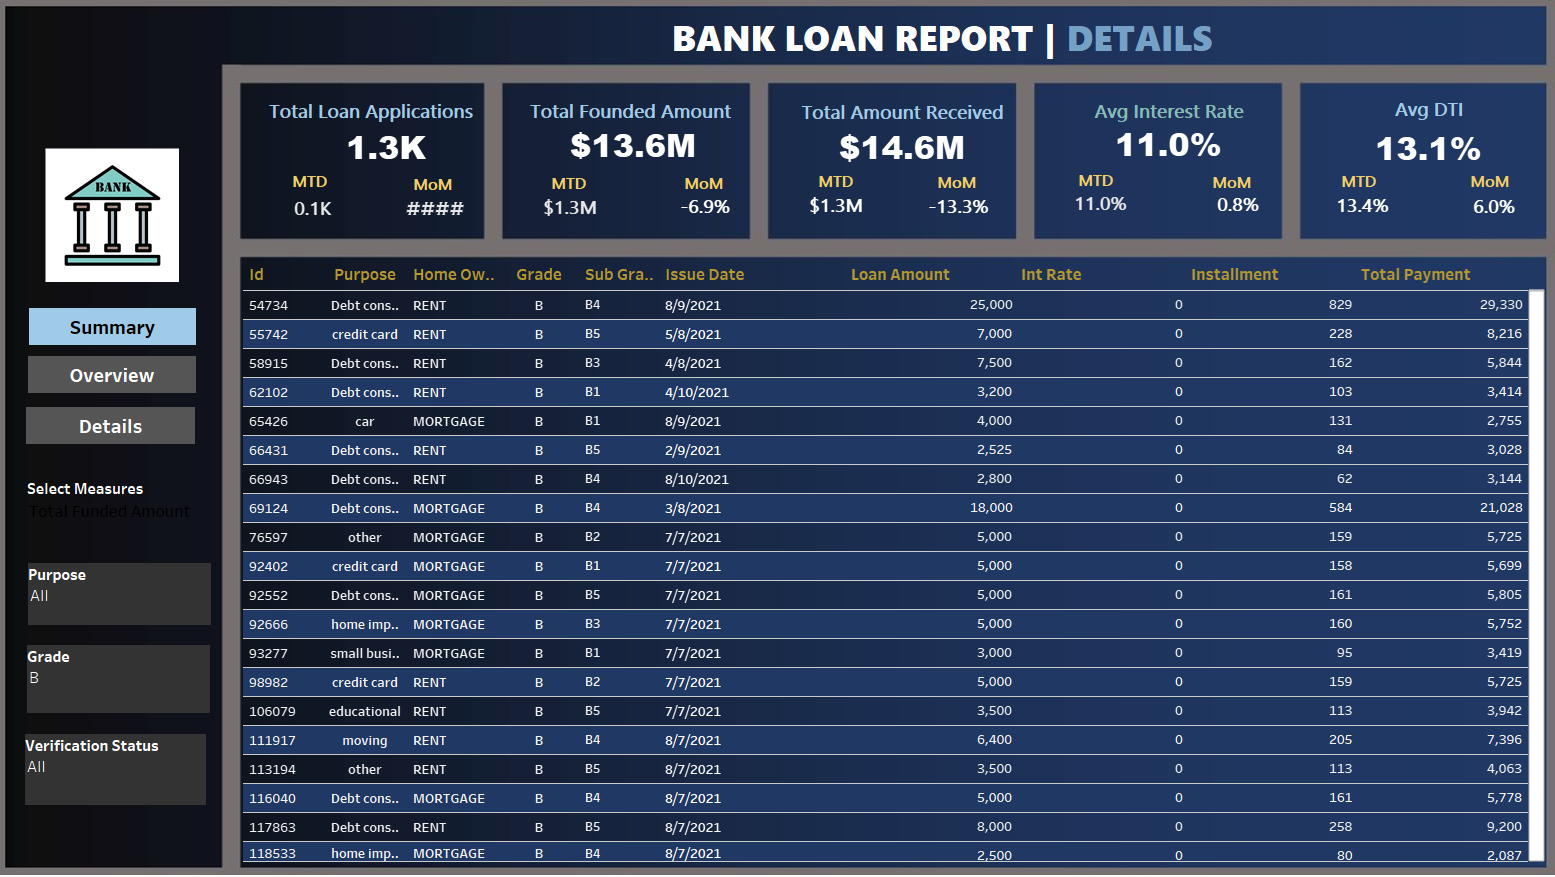

Layout of this report page (visuals, bound fields, positions):
{"tool":"tableau","page":{"name":"DETAILS","canvas":[1600,900],"ordinal":0},"visuals":[{"type":"image","param":"D:/SummerSlam/GitHub Projects/Bank-Loan/Images/Tableau Background 3.jpg","box":[8,8,1584,884]},{"type":"text","box":[683,21,715,57]},{"type":"worksheet","title":"Avg DTI","mark":"Automatic","box":[1372,102,142,77]},{"type":"worksheet","title":"Total Loan Applications","mark":"Automatic","box":[279,104,242,71]},{"type":"worksheet","title":"Total Founded Amount","mark":"Automatic","box":[540,104,216,68]},{"type":"worksheet","title":"Avg Interest Rate","mark":"Automatic","box":[1036,104,294,66]},{"type":"worksheet","title":"Total Amount Received","mark":"Automatic","box":[785,105,263,70]},{"type":"image","param":"C:/Users/Mohammed/Desktop/bank-vector-icon.jpg","box":[59,161,134,145]},{"type":"worksheet","title":"MoM Avg DTI","mark":"Automatic","box":[1453,176,111,85]},{"type":"text","box":[1079,180,61,25]},{"type":"text","box":[293,181,61,25]},{"type":"text","box":[819,181,61,25]},{"type":"worksheet","title":"MoM Avg INT Rate","mark":"Automatic","box":[1202,181,100,71]},{"type":"text","box":[1342,181,61,25]},{"type":"text","box":[1473,181,61,25]},{"type":"text","box":[940,182,61,25]},{"type":"text","box":[1215,182,61,25]},{"type":"text","box":[552,183,61,25]},{"type":"text","box":[687,183,61,25]},{"type":"text","box":[416,184,61,25]},{"type":"worksheet","title":"MoM Total Amount Received ","mark":"Automatic","box":[932,186,81,65]},{"type":"worksheet","title":"MTD Avg DTI","mark":"Automatic","box":[1315,186,123,63]},{"type":"worksheet","title":"MoM Total Loan Applications","mark":"Automatic","box":[413,187,73,72]},{"type":"worksheet","title":"MTD Total Loan Applications","mark":"Automatic","box":[273,189,108,64]},{"type":"worksheet","title":"MoM Total Funded Amount","mark":"Automatic","box":[666,189,107,60]},{"type":"worksheet","title":"MTD Total Amount Received","mark":"Automatic","box":[808,190,84,56]},{"type":"worksheet","title":"MTD Total Funded Amount","mark":"Automatic","box":[538,192,93,56]},{"type":"worksheet","title":"MTD Avg INT Rate","mark":"Automatic","box":[1069,198,92,35]},{"type":"worksheet","title":"Detail Tab","mark":"Automatic","rows":["id","purpose","home_ownership","grade","sub_grade","issue_date"],"box":[257,271,1302,604]},{"type":"dashboard-object","box":[43,321,167,37]},{"type":"dashboard-object","box":[42,369,168,37]},{"type":"dashboard-object","box":[40,420,169,37]},{"type":"parameter","param":"[Parameters].[Parameter 1]","box":[41,490,178,69]},{"type":"filter","title":"Avg DTI","param":"[federated.03rtkqy1etti0218mw5ic1l0aoeu].[none:purpose:nk]","box":[42,576,183,62]},{"type":"filter","title":"Avg DTI","param":"[federated.03rtkqy1etti0218mw5ic1l0aoeu].[none:grade:nk]","box":[41,658,183,68]},{"type":"filter","title":"Avg DTI","param":"[federated.03rtkqy1etti0218mw5ic1l0aoeu].[none:verification_status:nk]","box":[39,747,181,71]}]}

Visuals, with their boxes in screenshot pixels (x1, y1, x2, y2), scaled from the page's 1600x900 canvas onto the 1555x877 screenshot:
image: x1=8, y1=8, x2=1547, y2=869
text: x1=664, y1=20, x2=1359, y2=76
"Avg DTI" worksheet: x1=1333, y1=99, x2=1471, y2=174
"Total Loan Applications" worksheet: x1=271, y1=101, x2=506, y2=171
"Total Founded Amount" worksheet: x1=525, y1=101, x2=735, y2=168
"Avg Interest Rate" worksheet: x1=1007, y1=101, x2=1293, y2=166
"Total Amount Received" worksheet: x1=763, y1=102, x2=1019, y2=171
image: x1=57, y1=157, x2=188, y2=298
"MoM Avg DTI" worksheet: x1=1412, y1=172, x2=1520, y2=254
text: x1=1049, y1=175, x2=1108, y2=200
text: x1=285, y1=176, x2=344, y2=201
text: x1=796, y1=176, x2=855, y2=201
"MoM Avg INT Rate" worksheet: x1=1168, y1=176, x2=1265, y2=246
text: x1=1304, y1=176, x2=1364, y2=201
text: x1=1432, y1=176, x2=1491, y2=201
text: x1=914, y1=177, x2=973, y2=202
text: x1=1181, y1=177, x2=1240, y2=202
text: x1=536, y1=178, x2=596, y2=203
text: x1=668, y1=178, x2=727, y2=203
text: x1=404, y1=179, x2=464, y2=204
"MoM Total Amount Received " worksheet: x1=906, y1=181, x2=985, y2=245
"MTD Avg DTI" worksheet: x1=1278, y1=181, x2=1398, y2=243
"MoM Total Loan Applications" worksheet: x1=401, y1=182, x2=472, y2=252
"MTD Total Loan Applications" worksheet: x1=265, y1=184, x2=370, y2=247
"MoM Total Funded Amount" worksheet: x1=647, y1=184, x2=751, y2=243
"MTD Total Amount Received" worksheet: x1=785, y1=185, x2=867, y2=240
"MTD Total Funded Amount" worksheet: x1=523, y1=187, x2=613, y2=242
"MTD Avg INT Rate" worksheet: x1=1039, y1=193, x2=1128, y2=227
"Detail Tab" worksheet: x1=250, y1=264, x2=1515, y2=853
dashboard-object: x1=42, y1=313, x2=204, y2=349
dashboard-object: x1=41, y1=360, x2=204, y2=396
dashboard-object: x1=39, y1=409, x2=203, y2=445
parameter: x1=40, y1=477, x2=213, y2=545
"Avg DTI" filter: x1=41, y1=561, x2=219, y2=622
"Avg DTI" filter: x1=40, y1=641, x2=218, y2=707
"Avg DTI" filter: x1=38, y1=728, x2=214, y2=797
